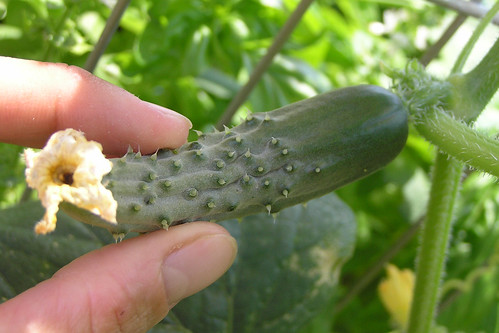cucumber: (24, 86, 410, 234)
